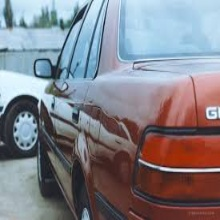no damage: (33, 1, 220, 220), (1, 66, 48, 159)
